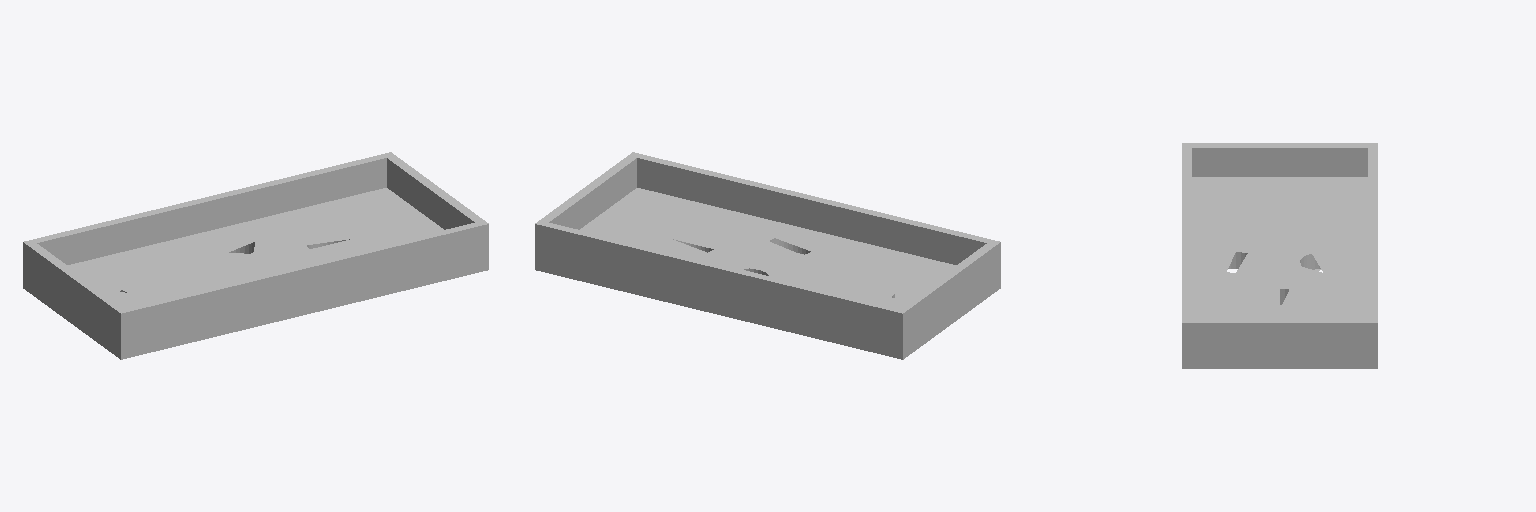
File: Board4.obj
3 views of the same model, side by side, from view 1: azimuth 30°, elevation 25°; view 2: azimuth 150°, elevation 25°; view 3: azimuth 270°, elevation 25° (orthographic).
Parts seen in each view (by area): view 1: Cube; view 2: Cube; view 3: Cube.
Part boxes in pixels (x1,y1,x2,y2): Cube: (23, 152, 488, 359); Cube: (535, 152, 1000, 359); Cube: (1182, 143, 1377, 368).
Bounding box in the file's own units: 2.6 × 0.312 × 1.2.